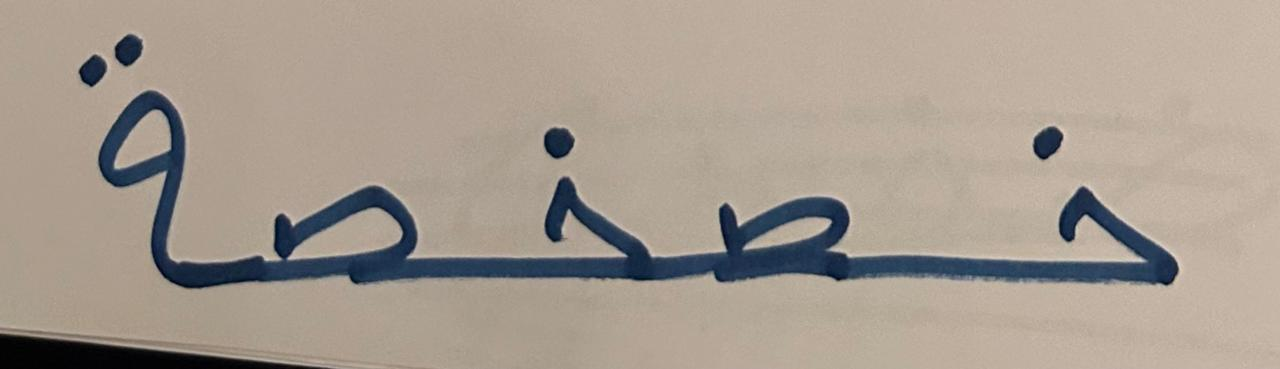lam: (918, 48, 1222, 336), (472, 56, 665, 336)
seen: (218, 100, 463, 336), (668, 107, 913, 330)
thal: (43, 7, 212, 307)
